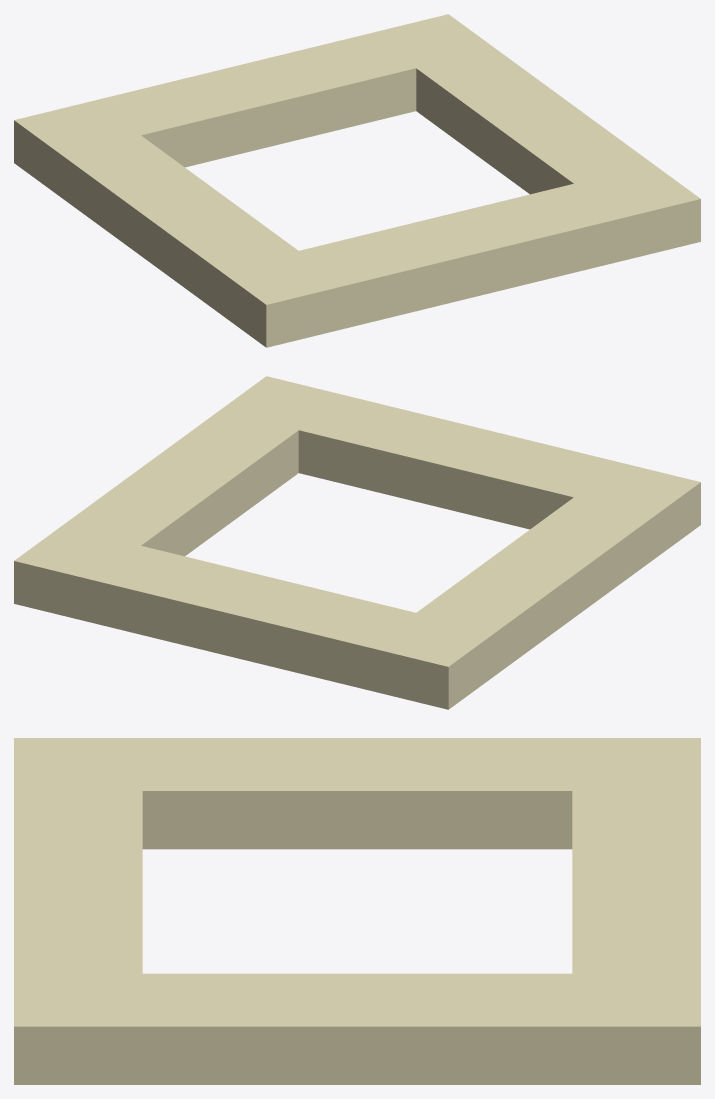
File: DindingBawah.fbx
3 views of the same model, one above another, from view 1: azimuth 30°, elevation 25°; view 2: azimuth 150°, elevation 25°; view 3: azimuth 270°, elevation 25° (orthographic). The views are drawn at different scales.
Parts seen in each view (by area): view 1: Tembok; view 2: Tembok; view 3: Tembok.
Part boxes in pixels (<box>): Tembok: <box>14,14,700,347</box>; Tembok: <box>14,376,700,709</box>; Tembok: <box>14,738,700,1084</box>.
Bounding box in the file's own units: 3180 × 300 × 3200.
